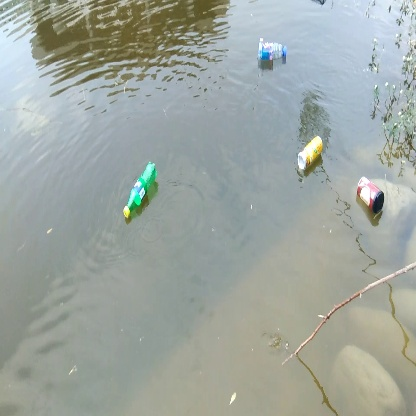bottle: (120, 160, 159, 222), (292, 129, 330, 175), (355, 171, 388, 217), (256, 37, 290, 70)
